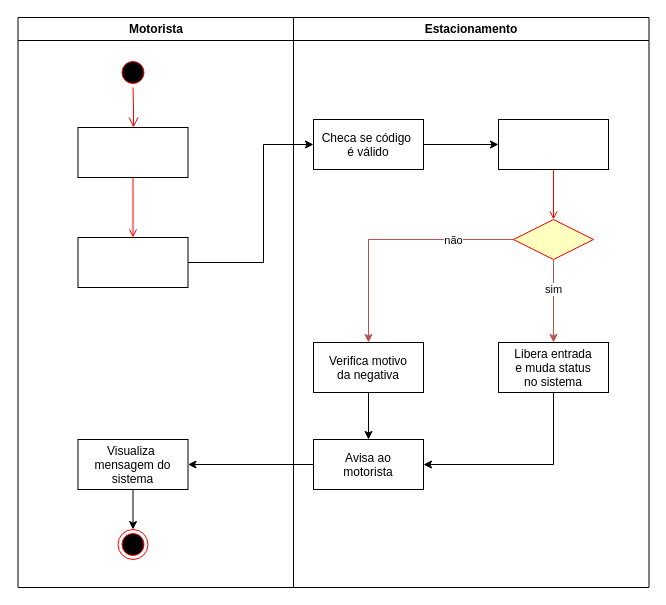
The diagram is 666 pixels wide and 605 high, and some of its shapes have lost their labels. The centre of each missing label's shape, as x and y in pixels:
"Acessa o estacionamento" belongs at (x=132, y=152).
"Apresenta código pessoal" belongs at (x=132, y=262).
"Chega se mensalidade está ativa" belongs at (x=553, y=144).
"verificação" belongs at (x=553, y=239).
